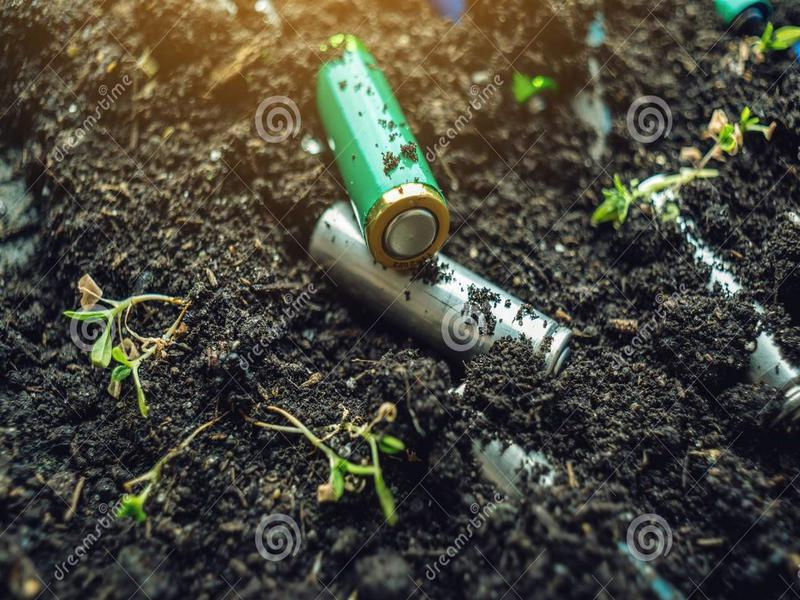battery: (288, 201, 577, 391), (301, 31, 457, 274)
